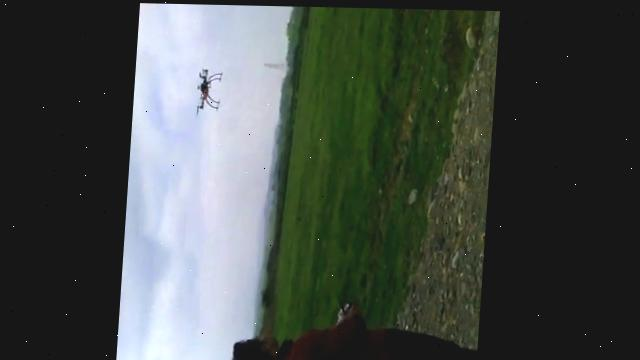drone: (193, 63, 226, 116)
